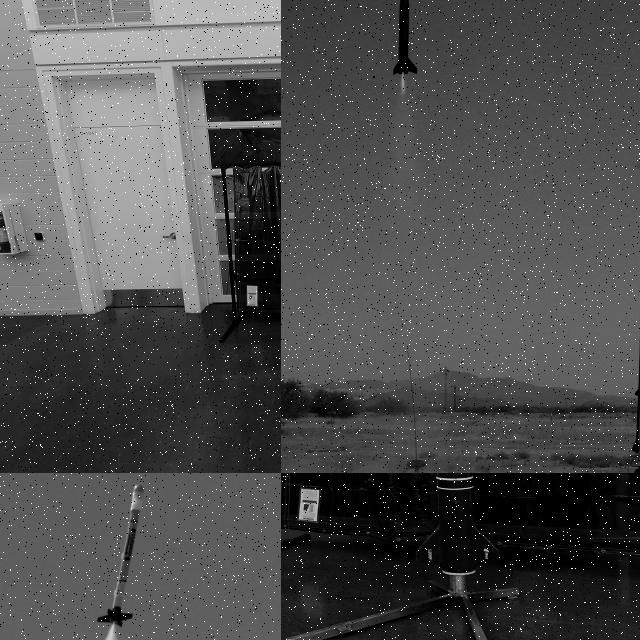Rocket: (416, 473, 501, 575), (96, 484, 145, 628), (393, 0, 418, 75), (632, 298, 640, 455)
